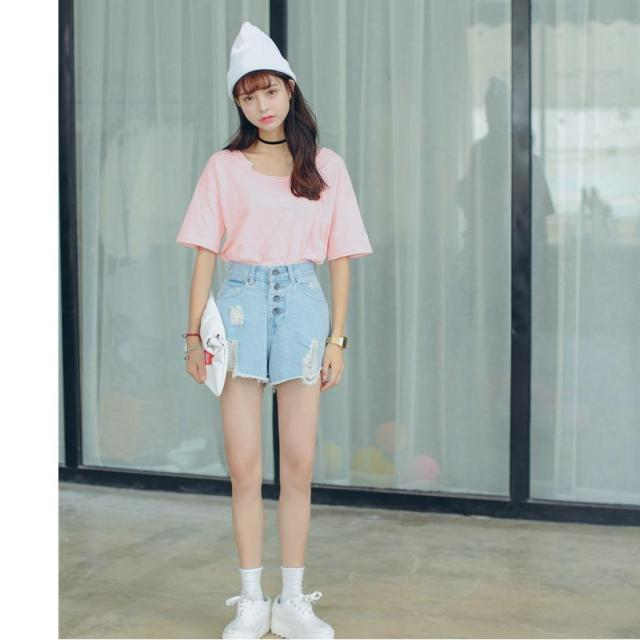short sleeve top: (175, 144, 374, 267)
shorts: (203, 262, 333, 385)
